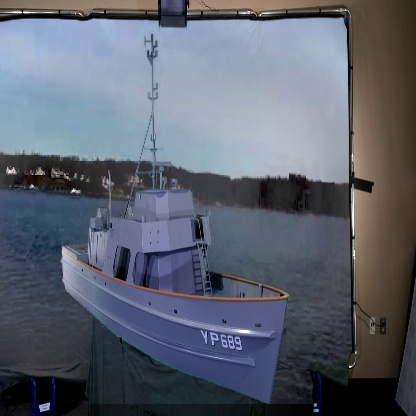YP689: (61, 28, 288, 404)
